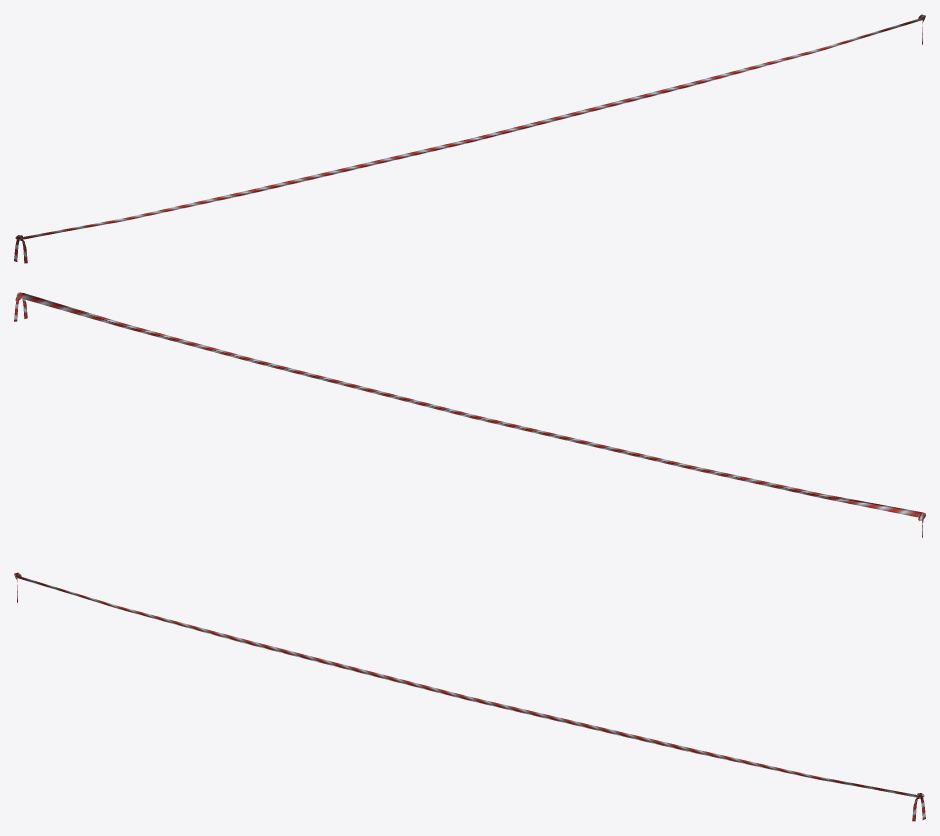
File: jsf_2P_String_s04_03.fbx
3 renders of one model, top to bottom at view 1: azimuth 30°, elevation 25°; view 2: azimuth 150°, elevation 25°; view 3: azimuth 330°, elevation 25°, orthographic.
Visible parts, largest first — view 1: jsf_2P_String_s04_03; view 2: jsf_2P_String_s04_03; view 3: jsf_2P_String_s04_03.
Part boxes in pixels (x1,y1,x2,y2): jsf_2P_String_s04_03: (14, 14, 925, 263); jsf_2P_String_s04_03: (14, 292, 925, 537); jsf_2P_String_s04_03: (14, 572, 925, 821).
Size of the model in its own units: 344 by 9.72 by 4.94.
